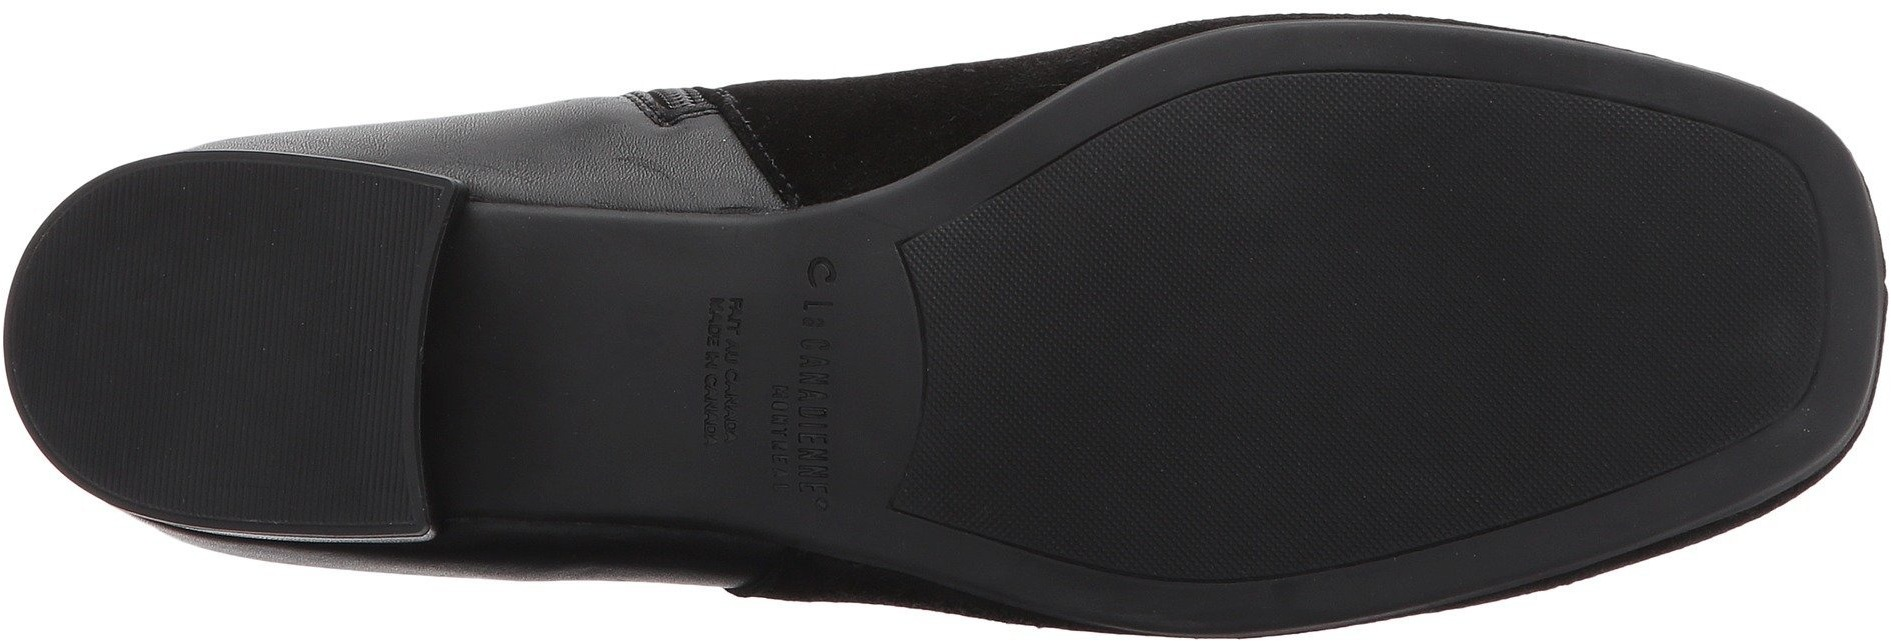other: (948, 233, 1245, 510), (1271, 94, 1530, 339), (1539, 167, 1786, 393), (39, 246, 248, 454), (1264, 351, 1451, 534), (258, 177, 418, 340), (1148, 107, 1260, 224), (1468, 394, 1568, 500)
